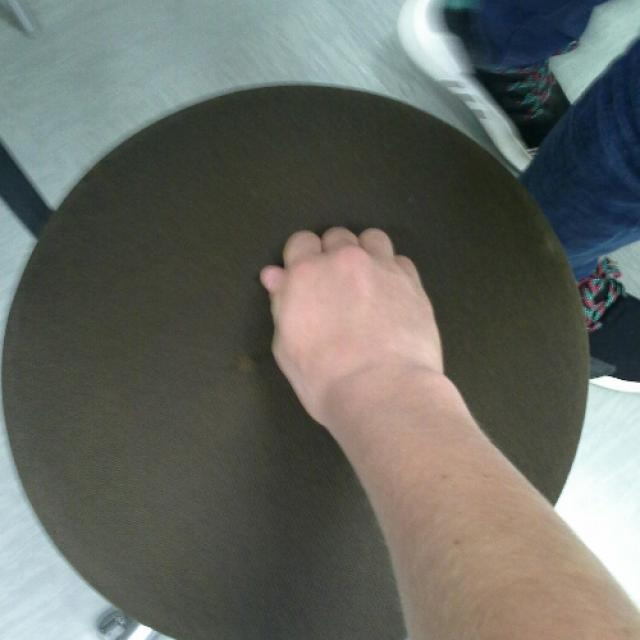rock: (266, 224, 445, 412)
